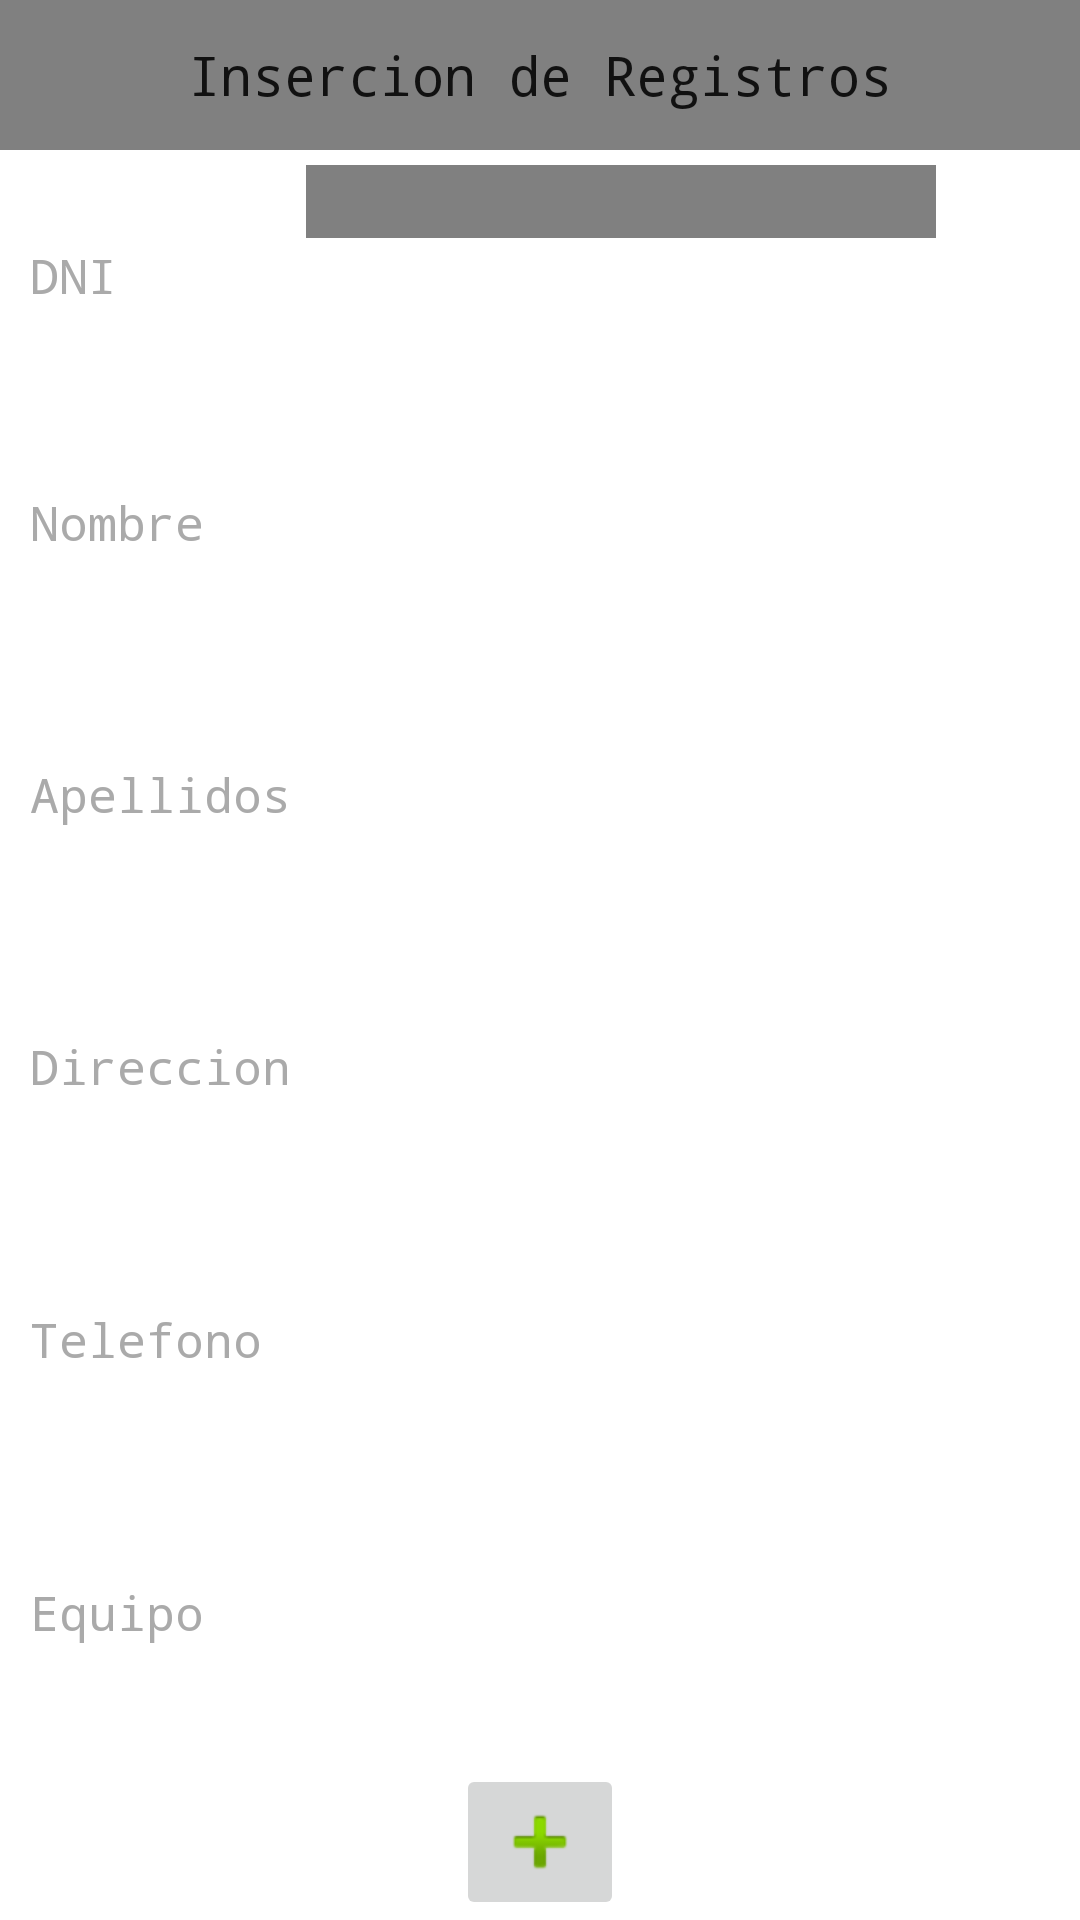

Icon bounding boxes for this 1080*1920 phone screenshot, format (left=x1, top=y1, right=x2, bottom=y2):
add: (left=468, top=1782, right=612, bottom=1902)
